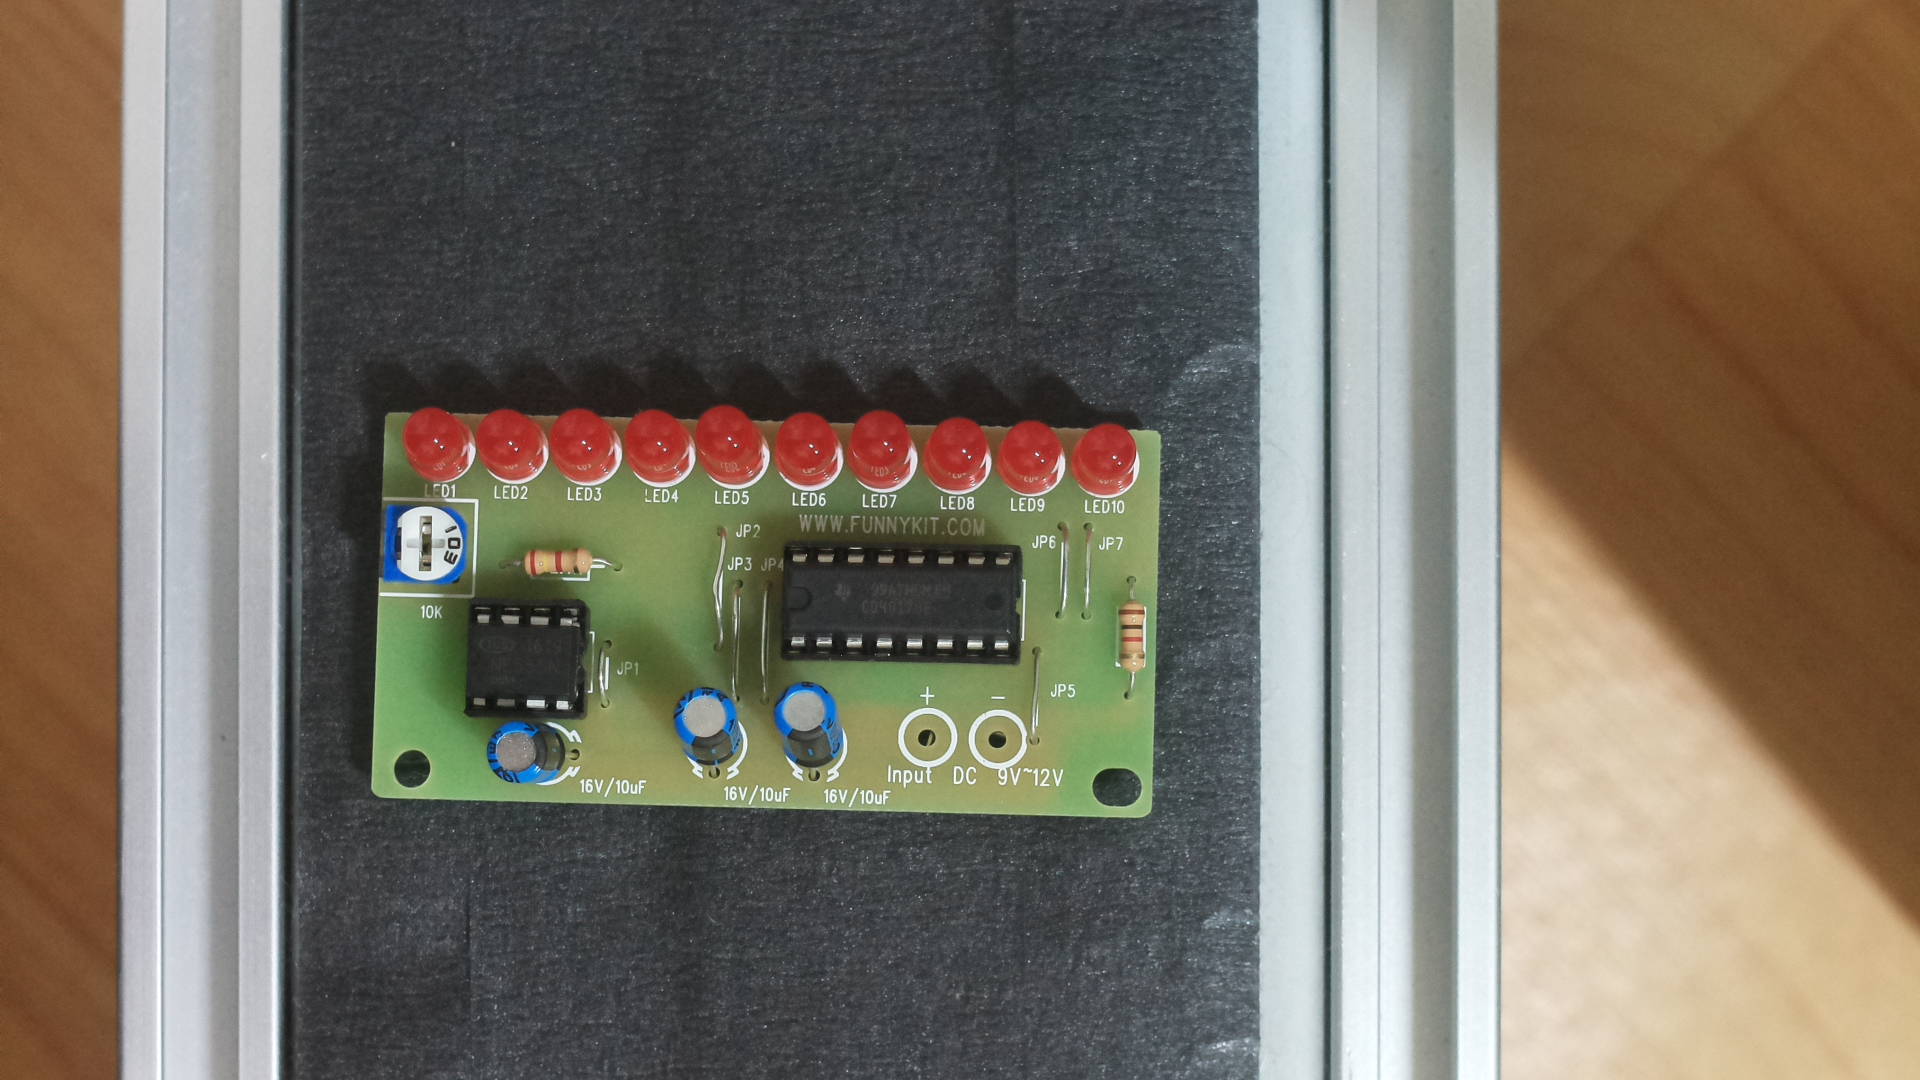B_Normal: (367, 385, 1182, 839)
